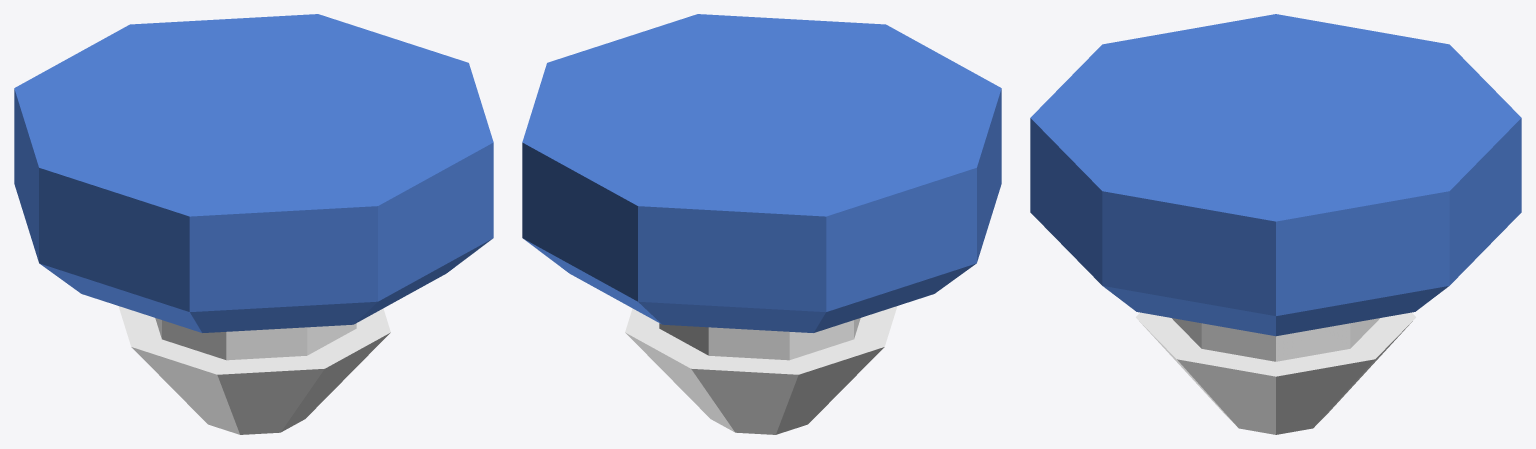
File: tip_1.glb
3 renders of one model, left to right at view 1: azimuth 30°, elevation 25°; view 2: azimuth 150°, elevation 25°; view 3: azimuth 270°, elevation 25°, orthographic.
Visible parts, largest first — view 1: Ponta; view 2: Ponta; view 3: Ponta.
Part boxes in pixels (box(x1,y1,x2,y2)): Ponta: box(14, 14, 493, 434); Ponta: box(522, 14, 1001, 434); Ponta: box(1030, 14, 1521, 434).
Bounding box in the file's own units: 2.8 × 1.86 × 2.8.
